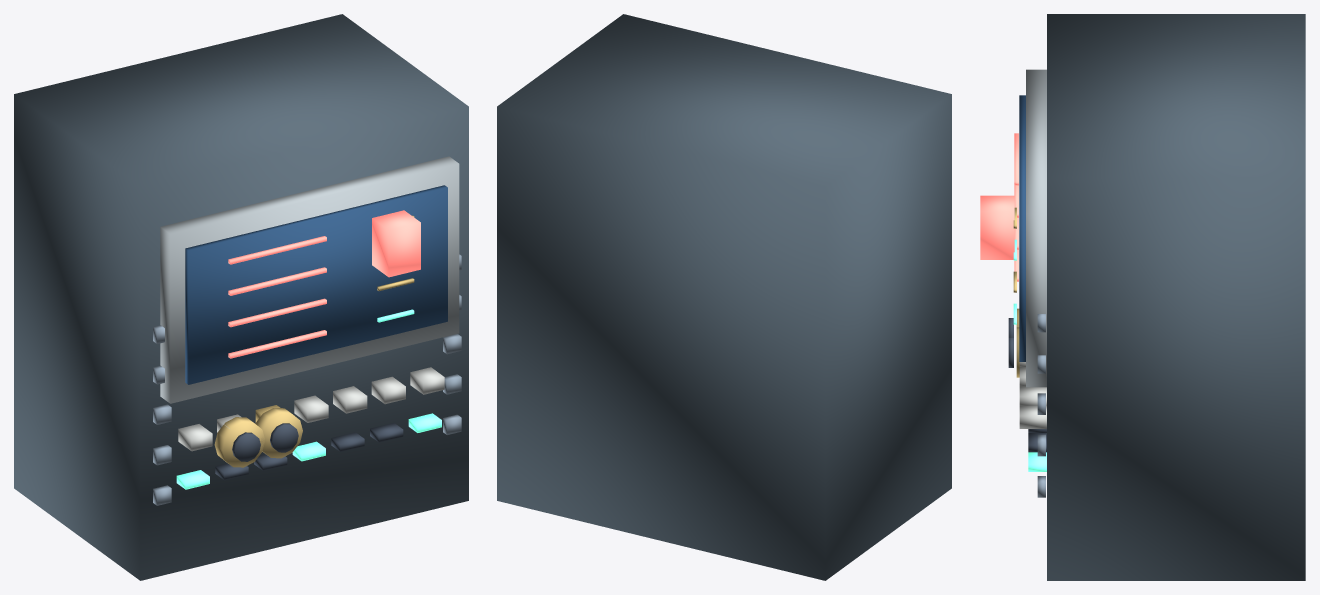
The model's file is 66_L84_ReactionWheelSaturationAlarm.glb.
3 renders of one model, left to right at view 1: azimuth 30°, elevation 25°; view 2: azimuth 150°, elevation 25°; view 3: azimuth 270°, elevation 25°, orthographic. The views are drawn at different scales.
Parts seen in each view (by area): view 1: L84_ReactionWheelSaturationAl_Part_0000, L84_ReactionWheelSaturationAl_Part_0002, L84_ReactionWheelSaturationAl_Part_0001, L84_ReactionWheelSaturationAl_Part_0003, L84_ReactionWheelSaturationAl_Part_0006, L84_ReactionWheelSaturationAl_Part_0008, L84_ReactionWheelSaturationAl_Part_0007, L84_ReactionWheelSaturationAl_Part_0005, L84_ReactionWheelSaturationAl_Part_0010, L84_ReactionWheelSaturationAl_Part_0012, L84_ReactionWheelSaturationAl_Part_0011, L84_ReactionWheelSaturationAl_Part_0013; view 2: L84_ReactionWheelSaturationAl_Part_0000; view 3: L84_ReactionWheelSaturationAl_Part_0000, L84_ReactionWheelSaturationAl_Part_0001, L84_ReactionWheelSaturationAl_Part_0003, L84_ReactionWheelSaturationAl_Part_0002, L84_ReactionWheelSaturationAl_Part_0006, L84_ReactionWheelSaturationAl_Part_0008, L84_ReactionWheelSaturationAl_Part_0005.
Part boxes in pixels (left/top/right/bottom): L84_ReactionWheelSaturationAl_Part_0000: left=14, top=14, right=468, bottom=580; L84_ReactionWheelSaturationAl_Part_0002: left=185, top=185, right=447, bottom=384; L84_ReactionWheelSaturationAl_Part_0001: left=160, top=156, right=459, bottom=403; L84_ReactionWheelSaturationAl_Part_0003: left=228, top=210, right=420, bottom=358; L84_ReactionWheelSaturationAl_Part_0006: left=178, top=367, right=444, bottom=451; L84_ReactionWheelSaturationAl_Part_0008: left=153, top=254, right=461, bottom=505; L84_ReactionWheelSaturationAl_Part_0007: left=215, top=423, right=403, bottom=480; L84_ReactionWheelSaturationAl_Part_0005: left=176, top=309, right=441, bottom=489; L84_ReactionWheelSaturationAl_Part_0010: left=214, top=417, right=264, bottom=467; L84_ReactionWheelSaturationAl_Part_0012: left=255, top=408, right=302, bottom=458; L84_ReactionWheelSaturationAl_Part_0011: left=232, top=432, right=260, bottom=461; L84_ReactionWheelSaturationAl_Part_0013: left=270, top=423, right=298, bottom=452; L84_ReactionWheelSaturationAl_Part_0000: left=497, top=14, right=951, bottom=580; L84_ReactionWheelSaturationAl_Part_0000: left=1047, top=14, right=1305, bottom=580; L84_ReactionWheelSaturationAl_Part_0001: left=1026, top=69, right=1046, bottom=387; L84_ReactionWheelSaturationAl_Part_0003: left=980, top=133, right=1018, bottom=281; L84_ReactionWheelSaturationAl_Part_0002: left=1019, top=95, right=1025, bottom=361; L84_ReactionWheelSaturationAl_Part_0006: left=1019, top=362, right=1046, bottom=428; L84_ReactionWheelSaturationAl_Part_0008: left=1037, top=314, right=1045, bottom=497; L84_ReactionWheelSaturationAl_Part_0005: left=1013, top=239, right=1046, bottom=471.
Size of the model in its own units: 0.9996 by 1.15 by 0.8379.
